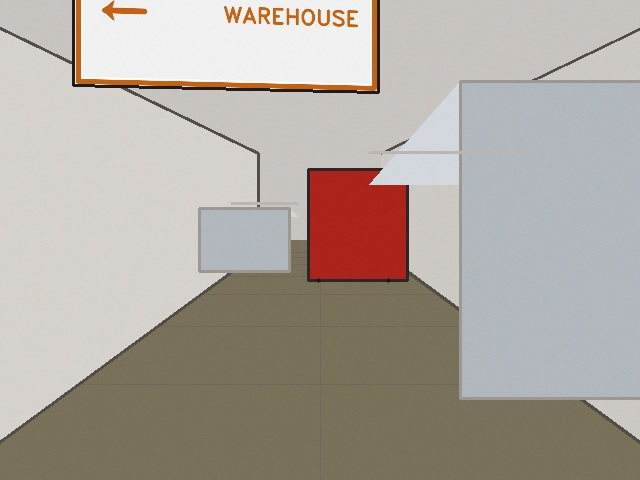cart: (308, 169, 407, 280)
directional_sign: (73, 0, 378, 92)
hospital_bed: (369, 81, 639, 398), (199, 208, 297, 271)
